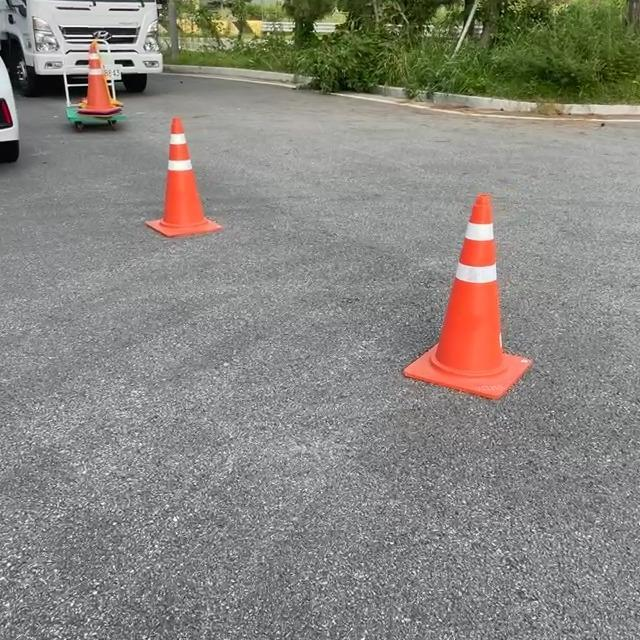fallen_object: (397, 165, 547, 431), (100, 97, 224, 251), (63, 17, 114, 138)
